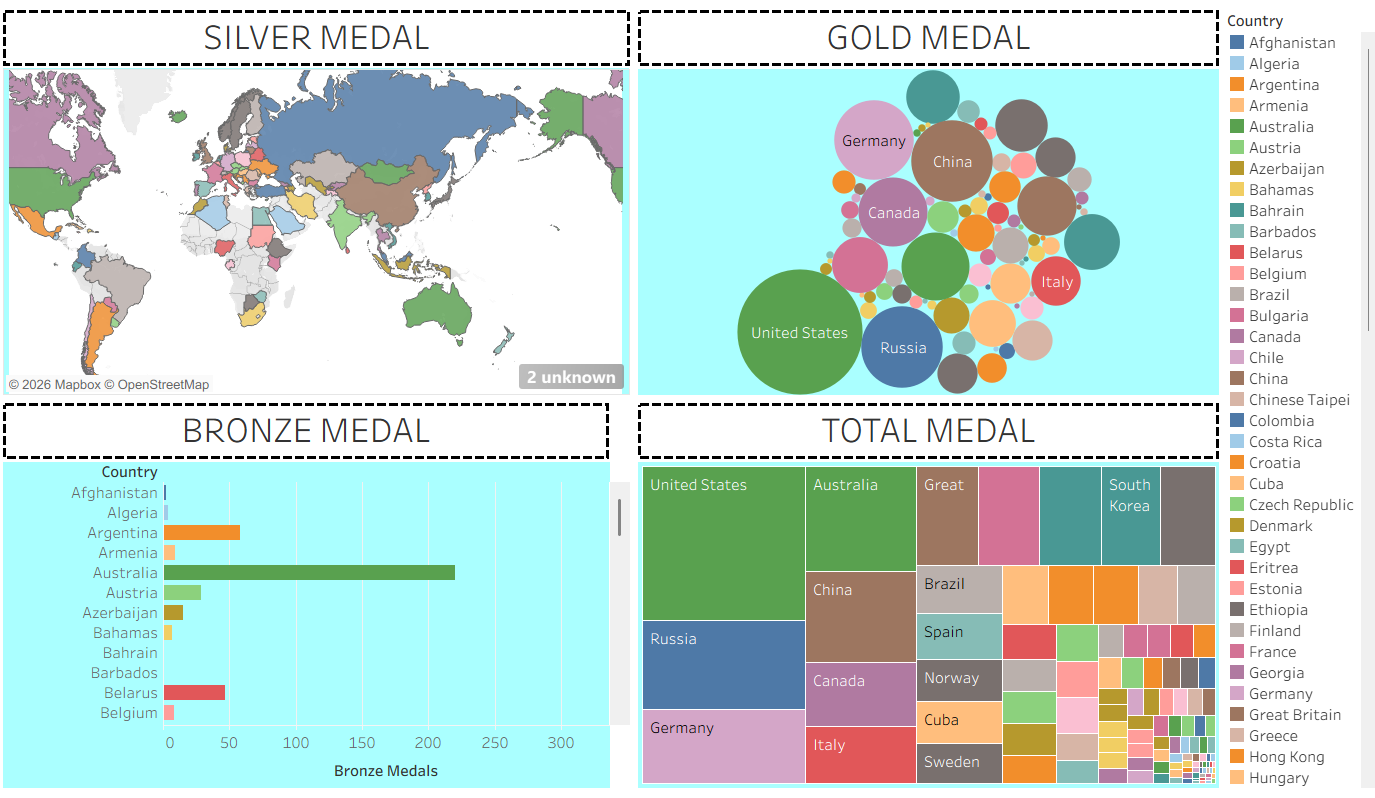

Layout of this report page (visuals, bound fields, positions):
{"tool":"tableau","page":{"name":"Dashboard 1","canvas":[1000,1000],"units":"permille","ordinal":0},"visuals":[{"type":"worksheet","title":"SILVER","mark":"Multipolygon","box":[5.7,10,453.6,490]},{"type":"worksheet","title":"GOLD","mark":"Circle","box":[459.3,10,420.7,490]},{"type":"legend","title":"BRONZE","param":"[federated.1w6mfvu1stfjwv0ziy1ak0778w4u].[none:Country:nk]","box":[880,10,114.3,980]},{"type":"worksheet","title":"BRONZE","mark":"Automatic","rows":["Country"],"cols":["Bronze Medals"],"box":[5.7,500,453.6,490]},{"type":"worksheet","title":"TOTAL","mark":"Automatic","box":[459.3,500,420.7,490]}]}

Visuals, with their boxes on the dashboard's canvas, which has no fixed pixel size, in thousandths of its width and height (x1, y1, x2, y2). These are canvas units, not pixel positions in the 1375x798 screenshot, which may show the page scaled, cropped or inside an application window:
"SILVER" worksheet (Multipolygon marks): 6/10/459/500
"GOLD" worksheet (Circle marks): 459/10/880/500
"BRONZE" legend: 880/10/994/990
"BRONZE" worksheet: 6/500/459/990
"TOTAL" worksheet: 459/500/880/990
